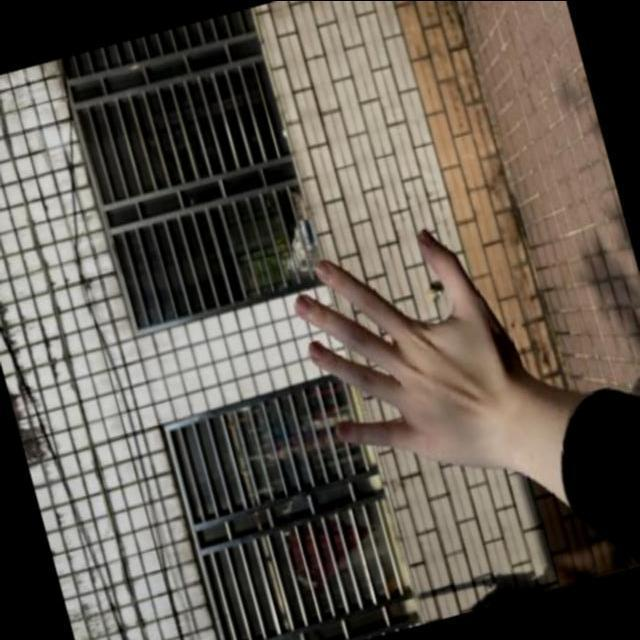hand: (267, 203, 552, 511)
